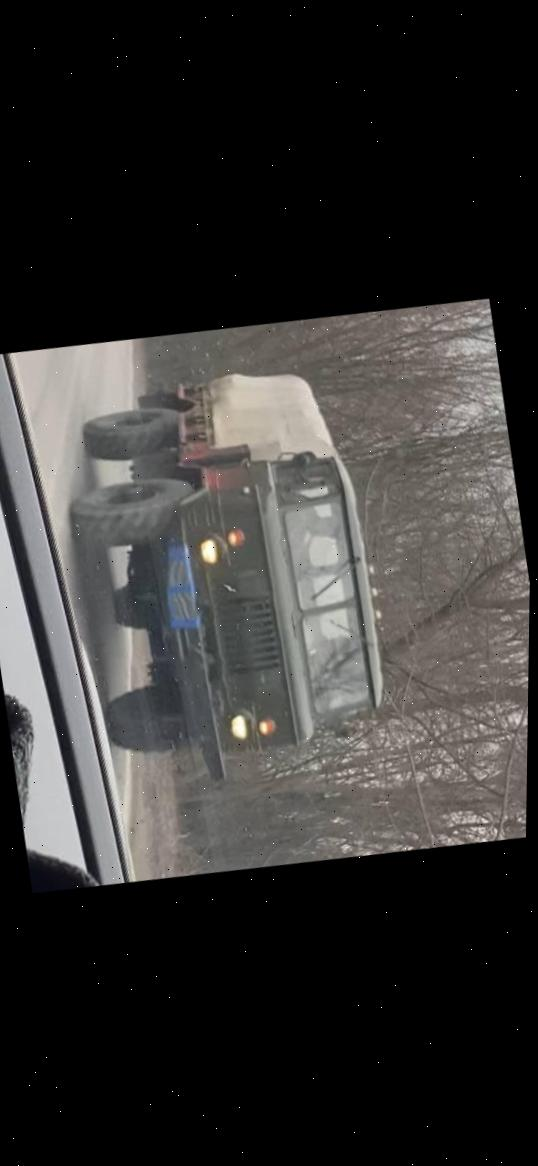truck: (34, 327, 410, 801)
